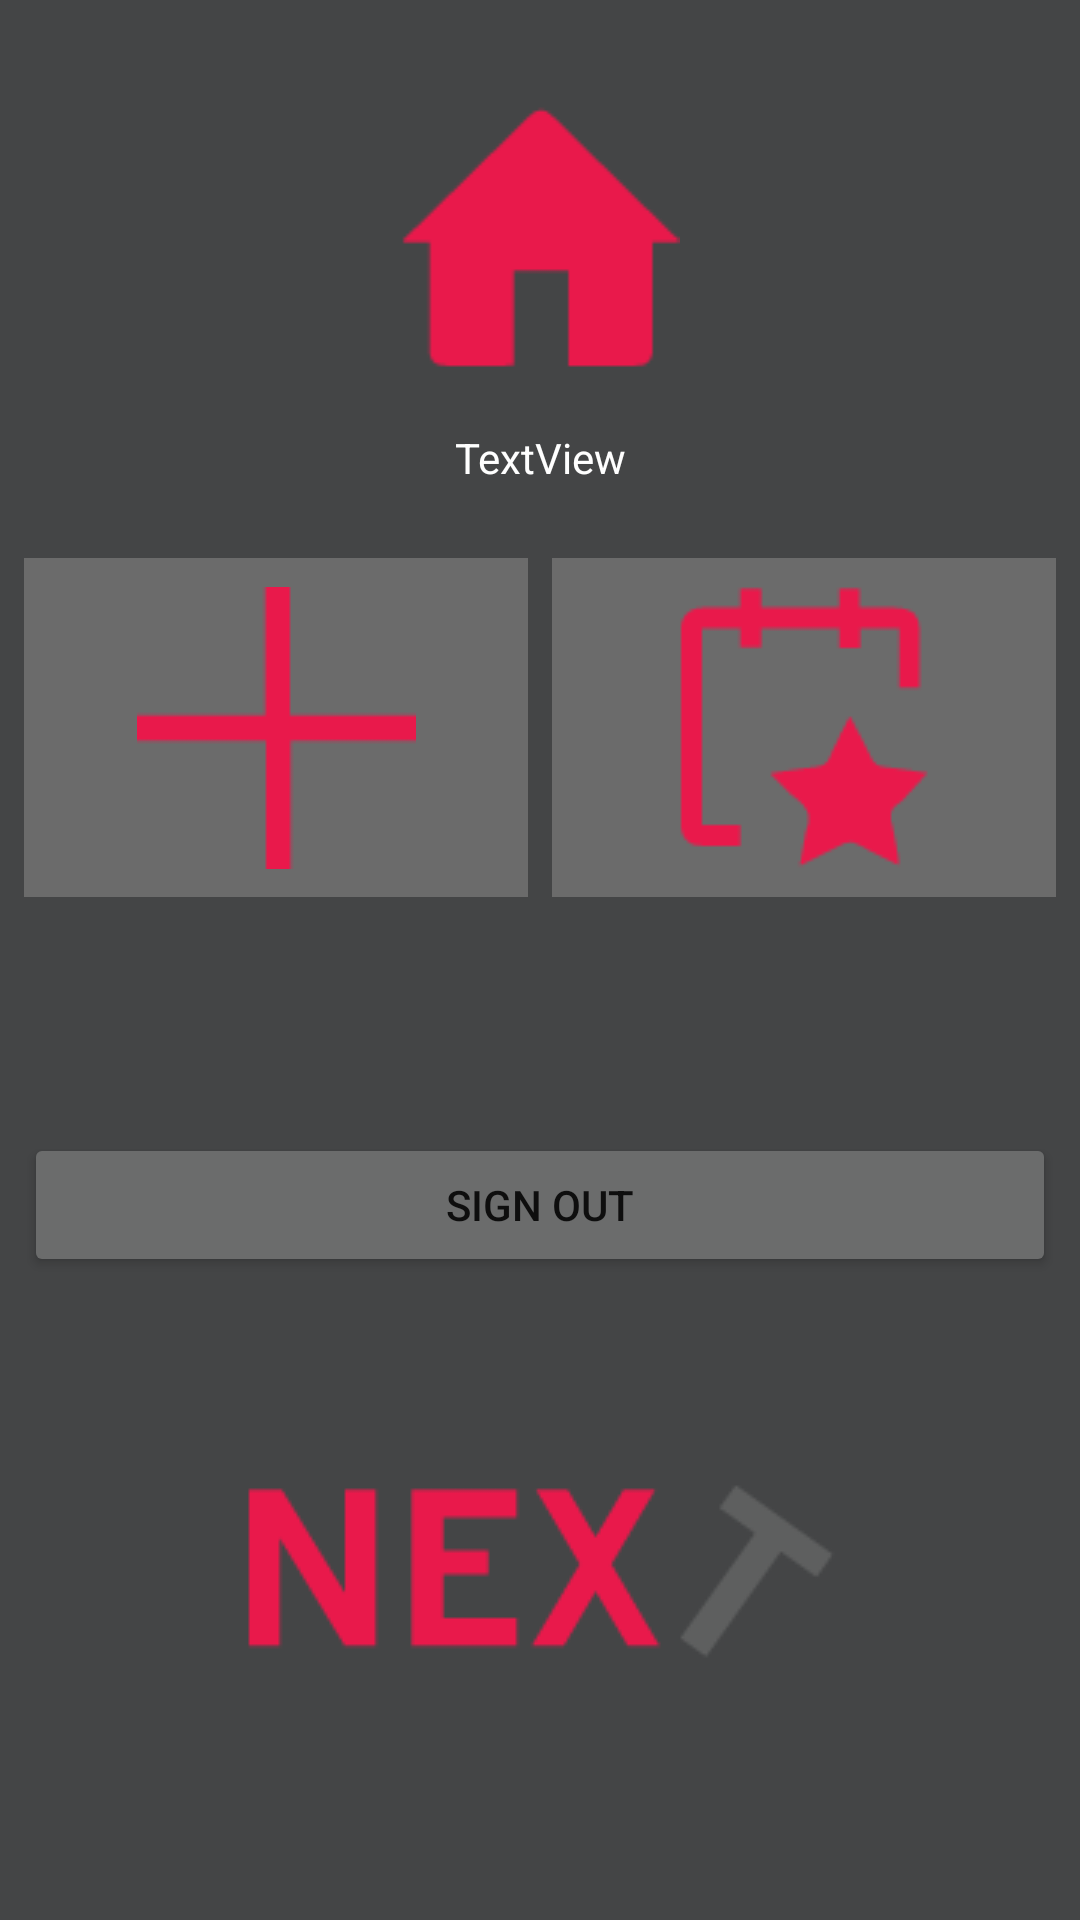

Named icons in this screenshot (1080x1920) and their bounding boxes, (x1, y1, x2, y2):
homeicon: (403, 108, 680, 367)
